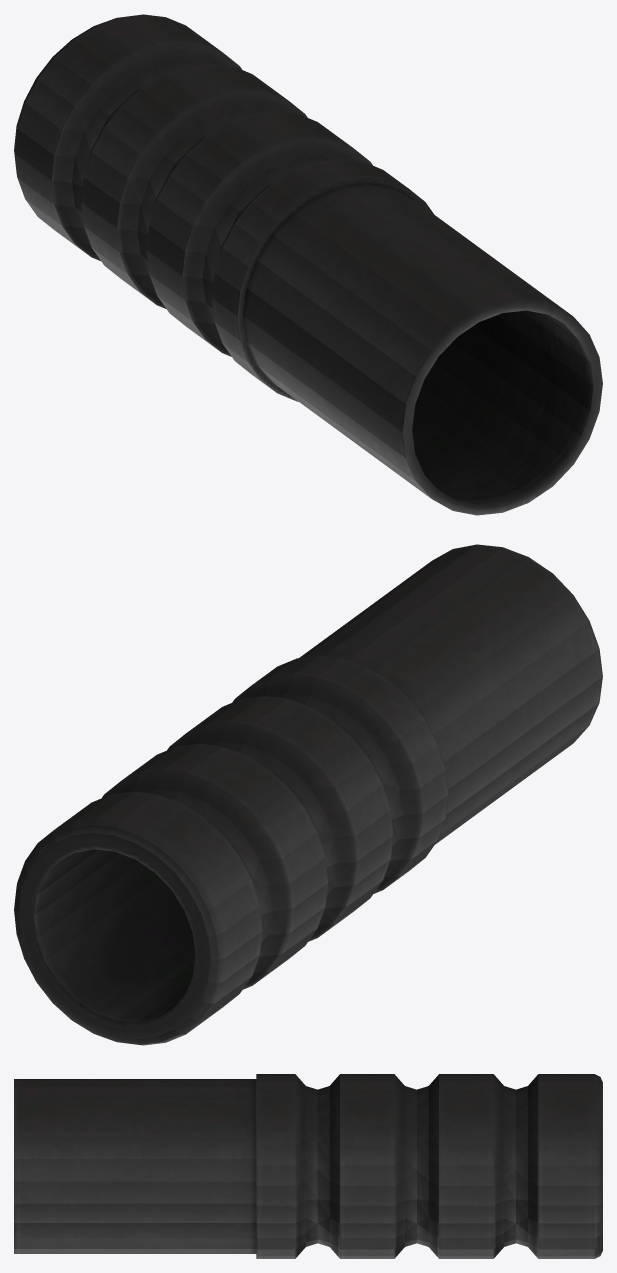
3 renders of one model, top to bottom at view 1: azimuth 30°, elevation 25°; view 2: azimuth 150°, elevation 25°; view 3: azimuth 270°, elevation 25°, orthographic. The views are drawn at different scales.
Visible parts, largest first — view 1: TW_670fd1cc95c92bfc8e0bea39_PZ_Import; view 2: TW_670fd1cc95c92bfc8e0bea39_PZ_Import; view 3: TW_670fd1cc95c92bfc8e0bea39_PZ_Import.
Part boxes in pixels (box(x1,y1,x2,y2)): TW_670fd1cc95c92bfc8e0bea39_PZ_Import: box(14, 14, 602, 515); TW_670fd1cc95c92bfc8e0bea39_PZ_Import: box(14, 544, 602, 1045); TW_670fd1cc95c92bfc8e0bea39_PZ_Import: box(14, 1074, 602, 1258).
Size of the model in its own units: 0.0148 by 0.0473 by 0.0148.
1 material, 1 textured.
